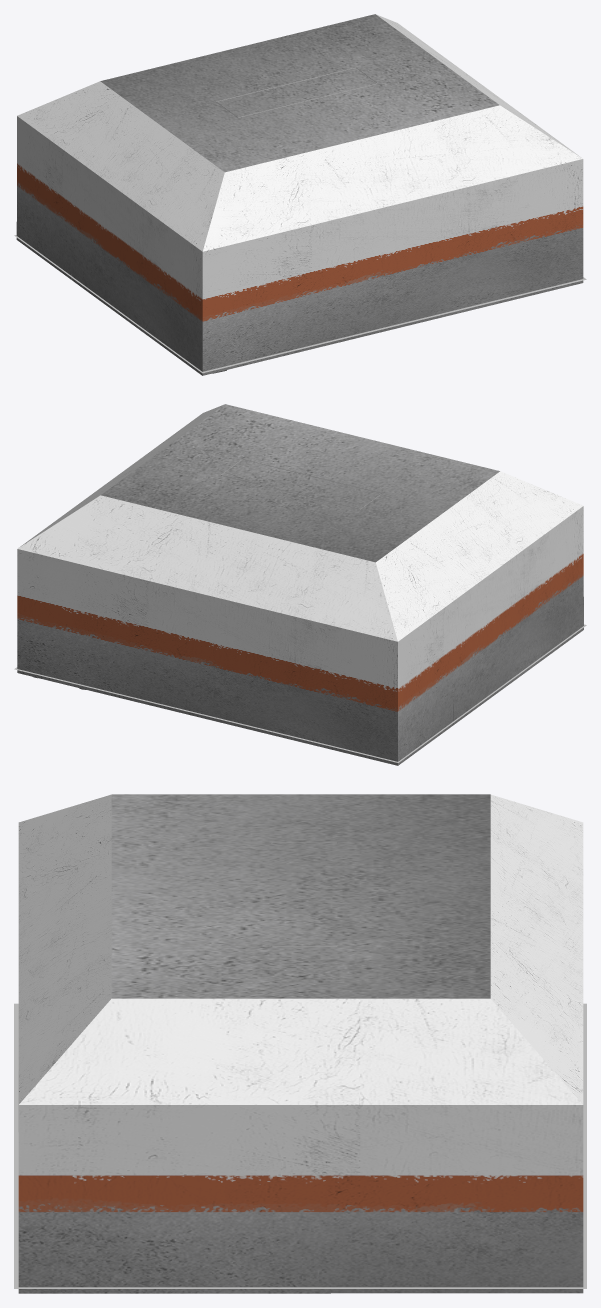
Rendered from LVL 1.fbx.
The picture shows the model from 3 angles, top to bottom: view 1: azimuth 30°, elevation 25°; view 2: azimuth 150°, elevation 25°; view 3: azimuth 270°, elevation 25°; orthographic projection. The views are drawn at different scales.
Parts seen in each view (by area): view 1: Main Mesh, Floor.001; view 2: Main Mesh, Floor.001; view 3: Main Mesh, Floor.001.
Boxes of the visible parts, x1,y1,x2,y2 form: Main Mesh: (16,14,583,375); Floor.001: (14,235,586,373); Main Mesh: (17,404,583,765); Floor.001: (14,624,586,762); Main Mesh: (18,794,583,1293); Floor.001: (14,1003,586,1288).
Size of the model in its own units: 1373 by 578 by 1165.
